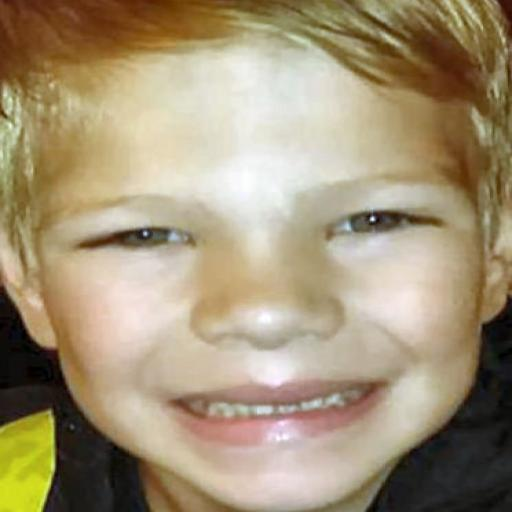Autism: (22, 10, 512, 512)
